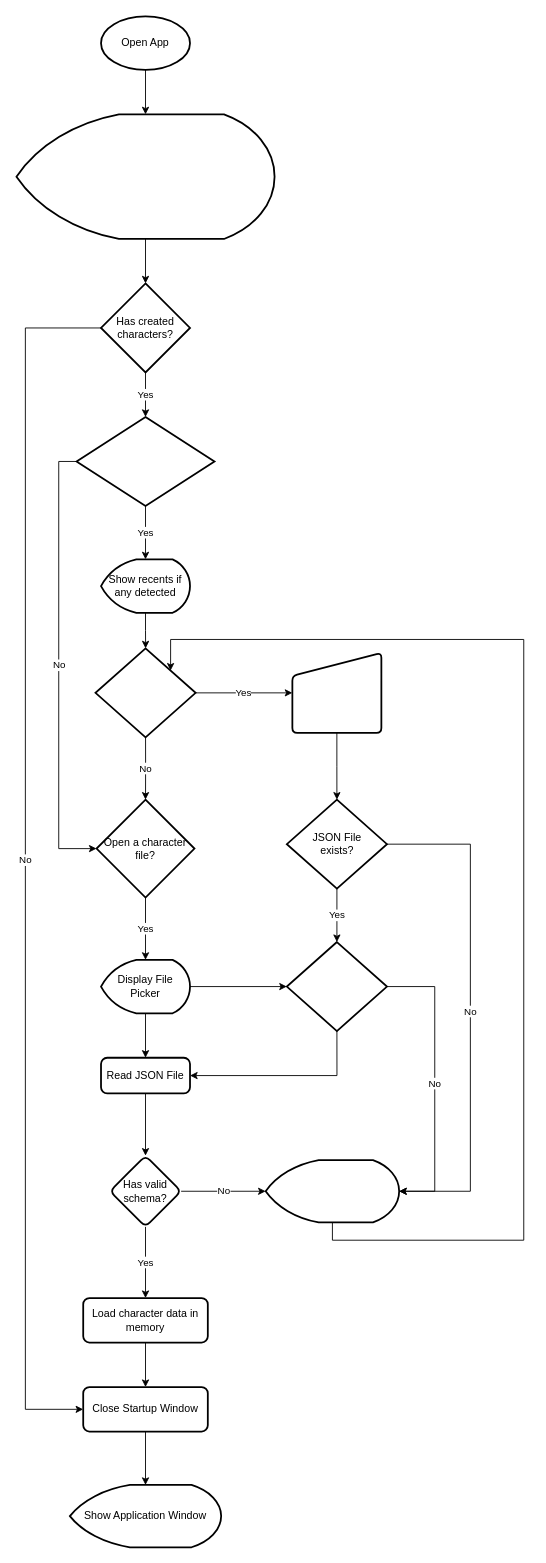
Some shapes in this 546 by 1563 pixel diagram are drawn without their labels. The centre of each missing label's shape, as x and y in pixels:
"Display non readable file alert" belongs at pixel 332 1191.
"Is there any character registered in recents?" belongs at pixel 145 461.
"JSON File is Readable" belongs at pixel 336 986.
"Pick character from recents list" belongs at pixel 336 692.
"Pick Character from recents?" belongs at pixel 145 692.
"Startup Window (Welcome) ---------------- Logo Title New Open Recents" belongs at pixel 145 176.
